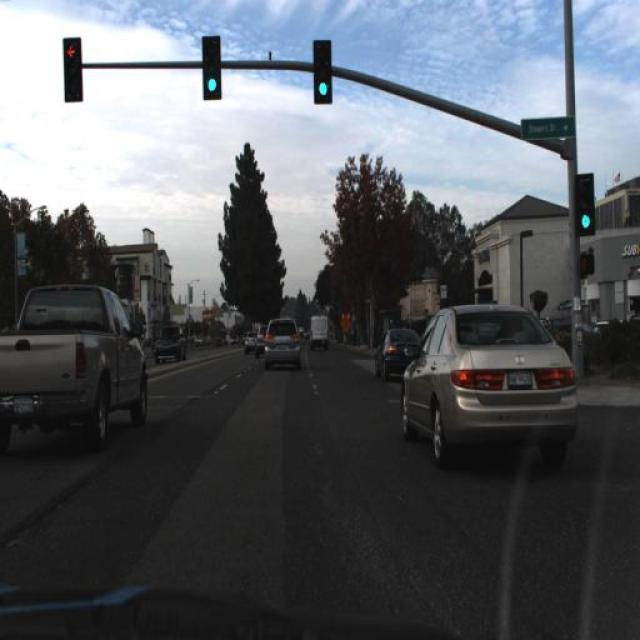car: (397, 298, 582, 478), (0, 270, 151, 462), (370, 322, 426, 388), (255, 310, 307, 378), (149, 319, 189, 370), (306, 308, 336, 357), (308, 312, 332, 347), (252, 318, 270, 362)
trafficLight-Green: (61, 30, 87, 106), (199, 31, 223, 107), (310, 32, 334, 108)
trafficLight-GreenLeft: (575, 175, 594, 231)
